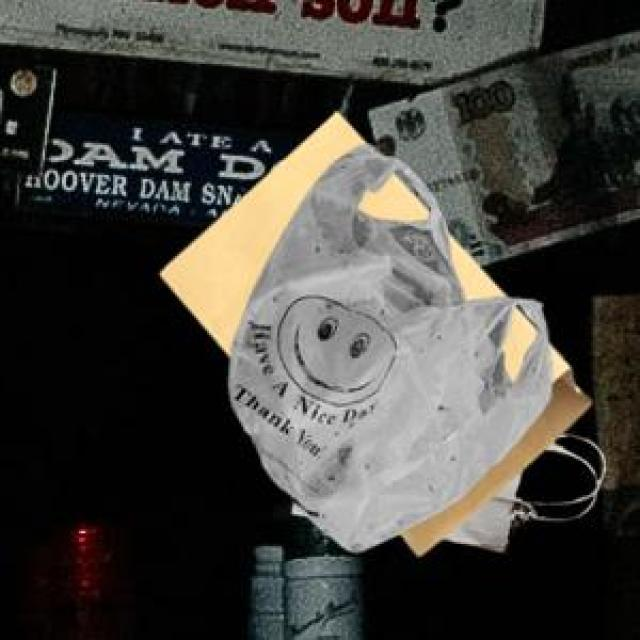paper: (156, 109, 587, 550), (437, 437, 566, 548)
